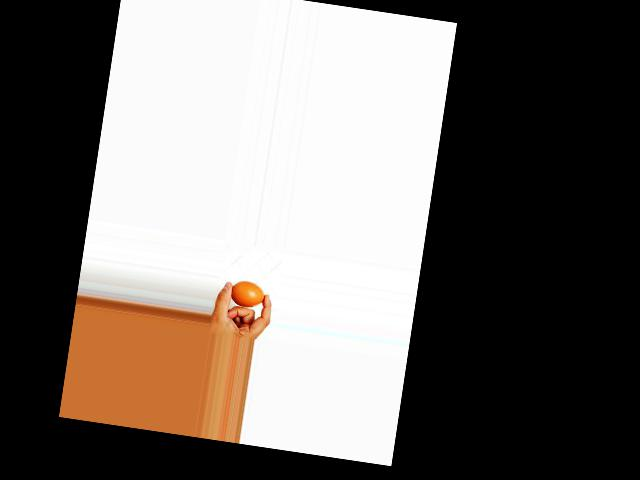egg: (229, 278, 266, 309)
